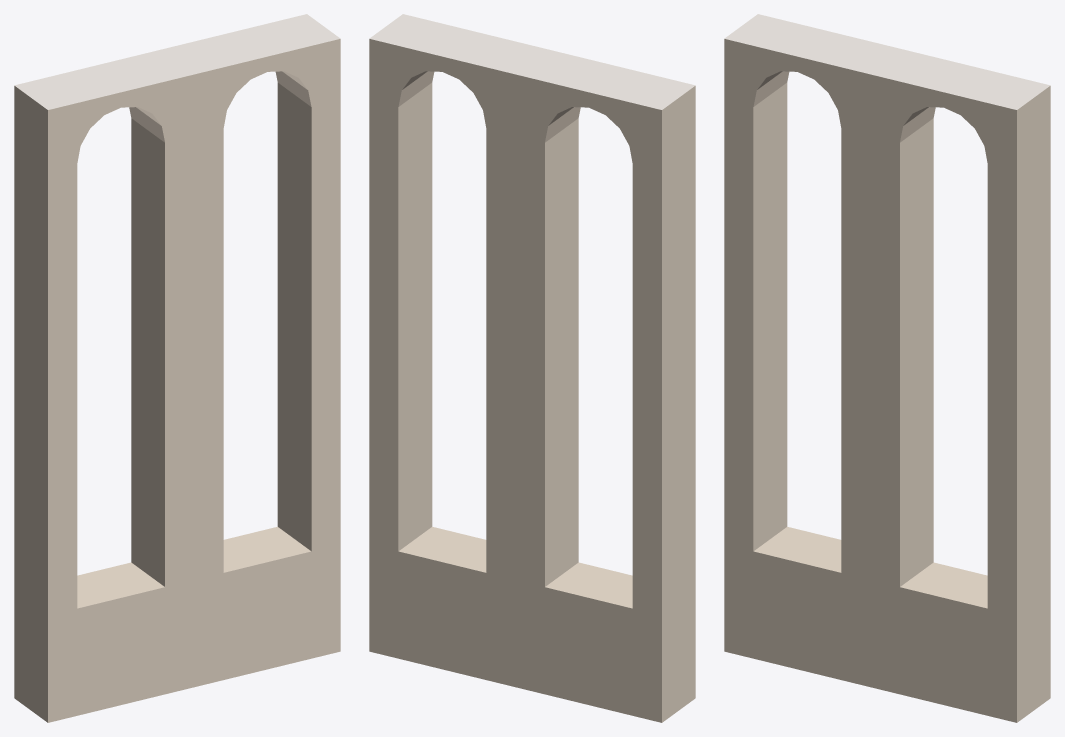
File: temple_Wall_Straight_Windows_Tall.glb
3 renders of one model, left to right at view 1: azimuth 30°, elevation 25°; view 2: azimuth 150°, elevation 25°; view 3: azimuth 330°, elevation 25°, orthographic.
Visible parts, largest first — view 1: object1; view 2: object1; view 3: object1.
Boxes of the visible parts, x1=… form: object1: x1=14, y1=14, x2=340, y2=722; object1: x1=369, y1=14, x2=695, y2=722; object1: x1=724, y1=14, x2=1050, y2=722.
Bounding box in the file's own units: 1 × 2 × 0.2.
